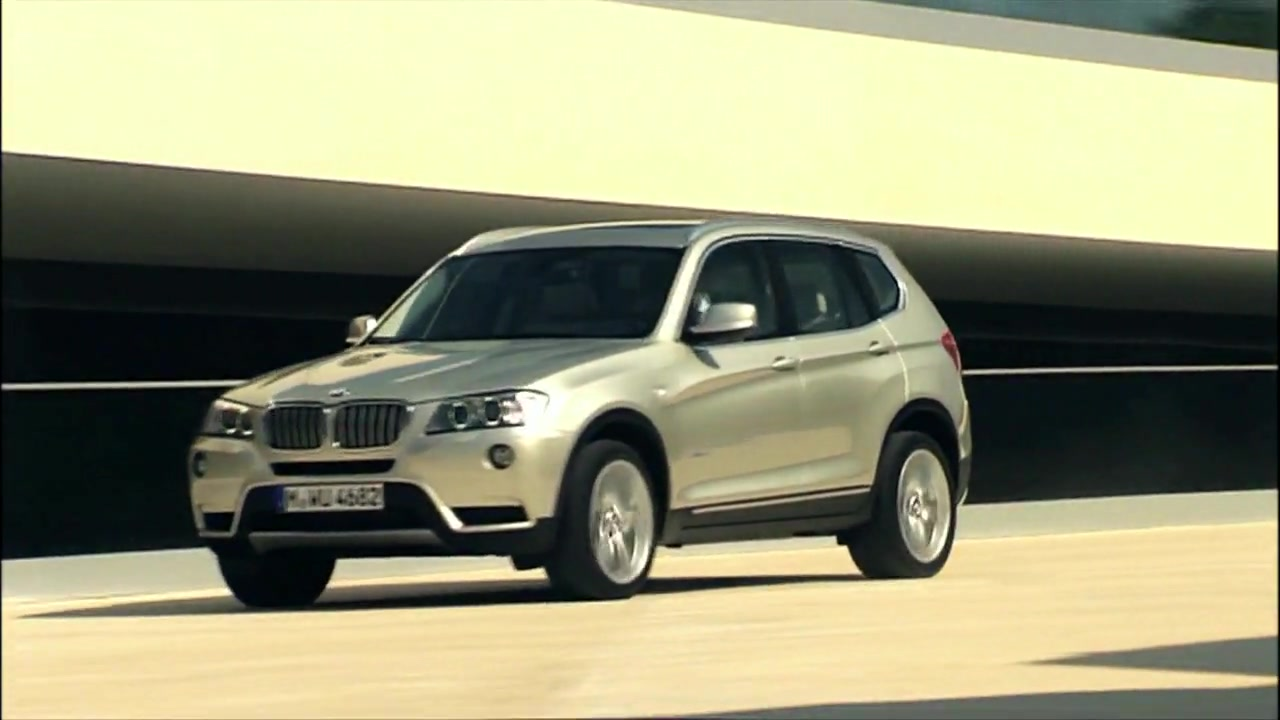car: (188, 219, 977, 613)
